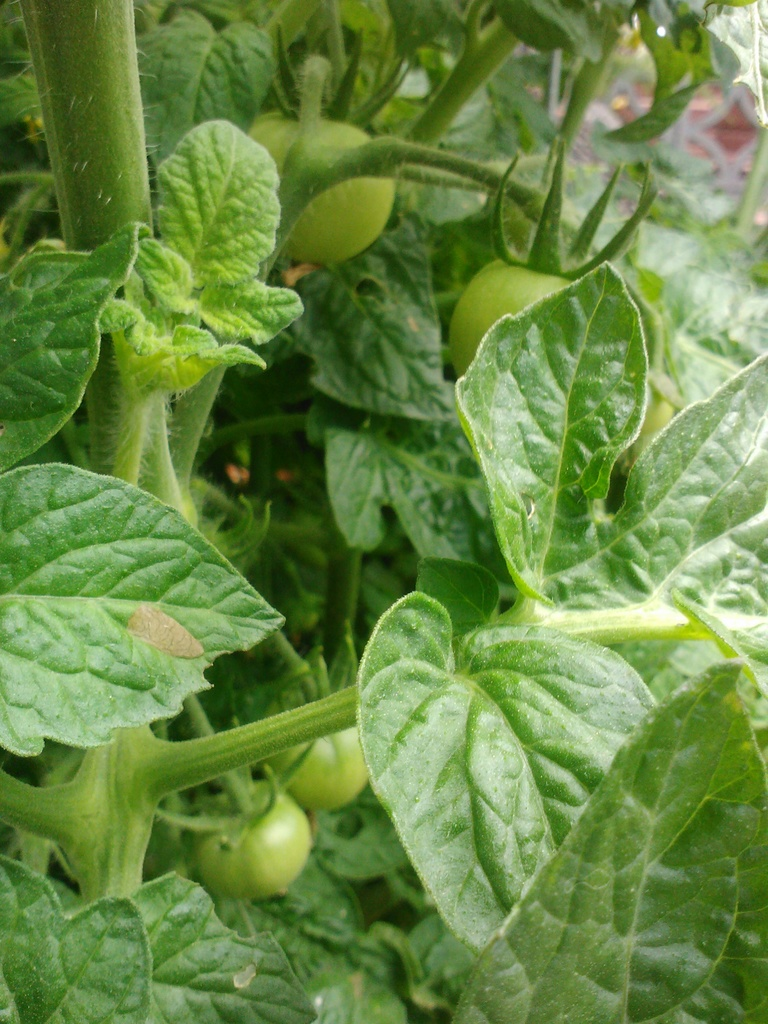Tomato: (245, 117, 397, 260), (447, 250, 594, 379), (191, 782, 313, 897), (262, 696, 370, 810), (618, 395, 677, 471)
